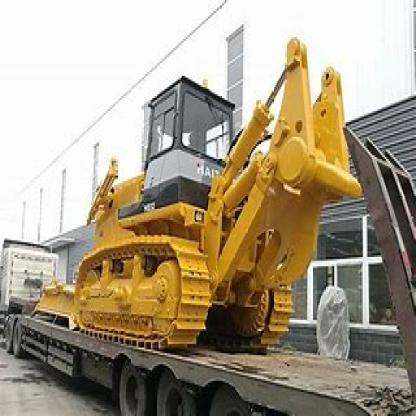bull_dozer/loader/grader: (25, 34, 365, 362)
